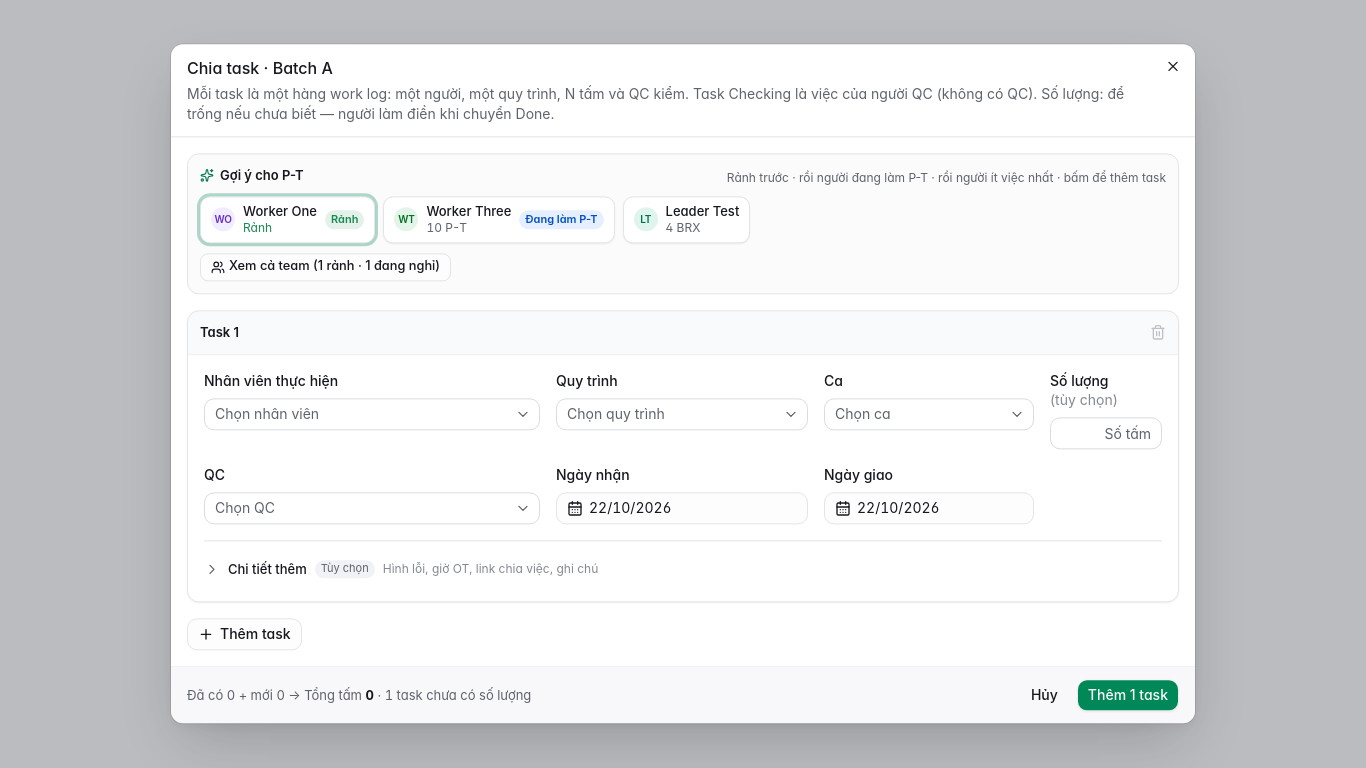
Test: SplitTasksDialog — team load (PD-080) › a tile fills the first task without a person, then adds a task for the next one (copying task 1) and focuses its Quy trình
Click the button "WO Worker One Rảnh Rảnh" at (288, 220), box left=200, top=197, right=375, bottom=243
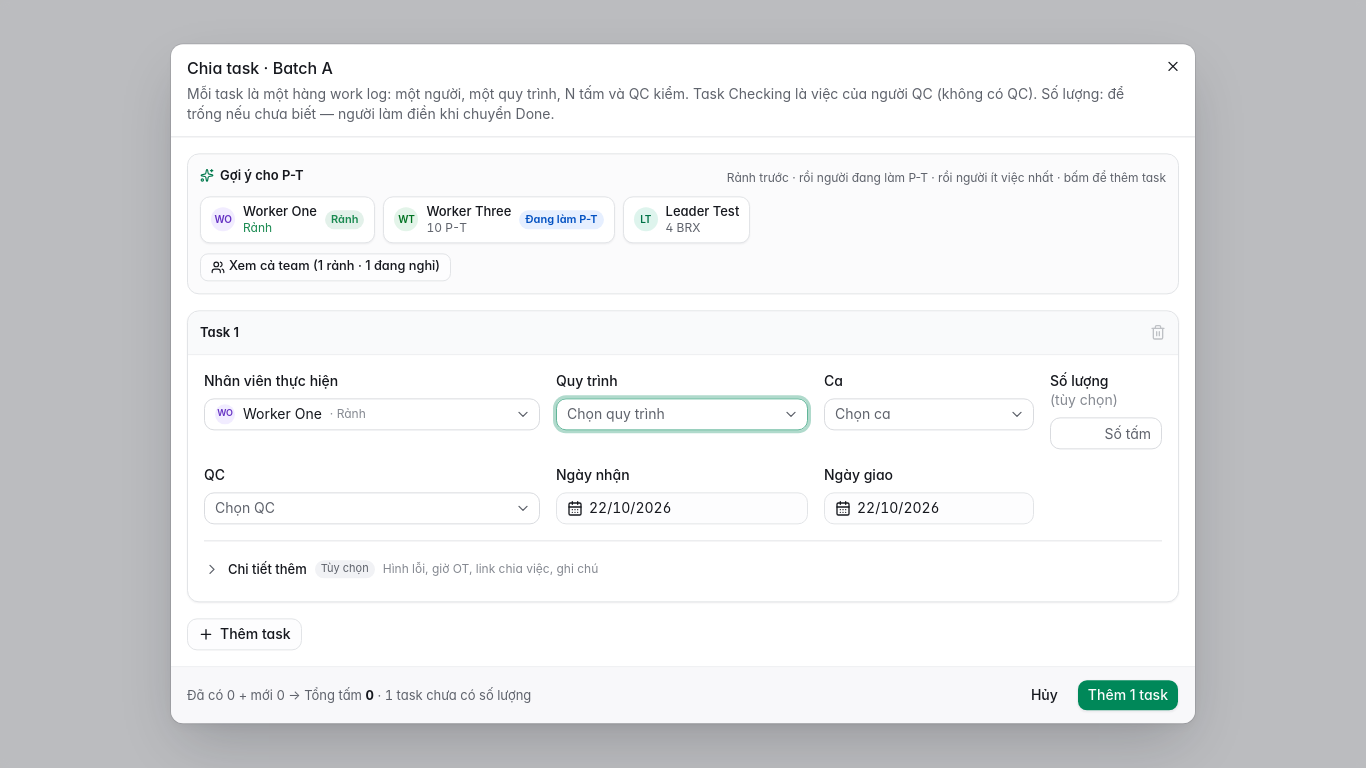
Expected: the dropdown named "Nhân viên thực hiện" shows "Worker One", left=204, top=398, right=540, bottom=430
Type "12" into the field with placeholder "Số tấm" at (1106, 433), box left=1050, top=417, right=1162, bottom=449
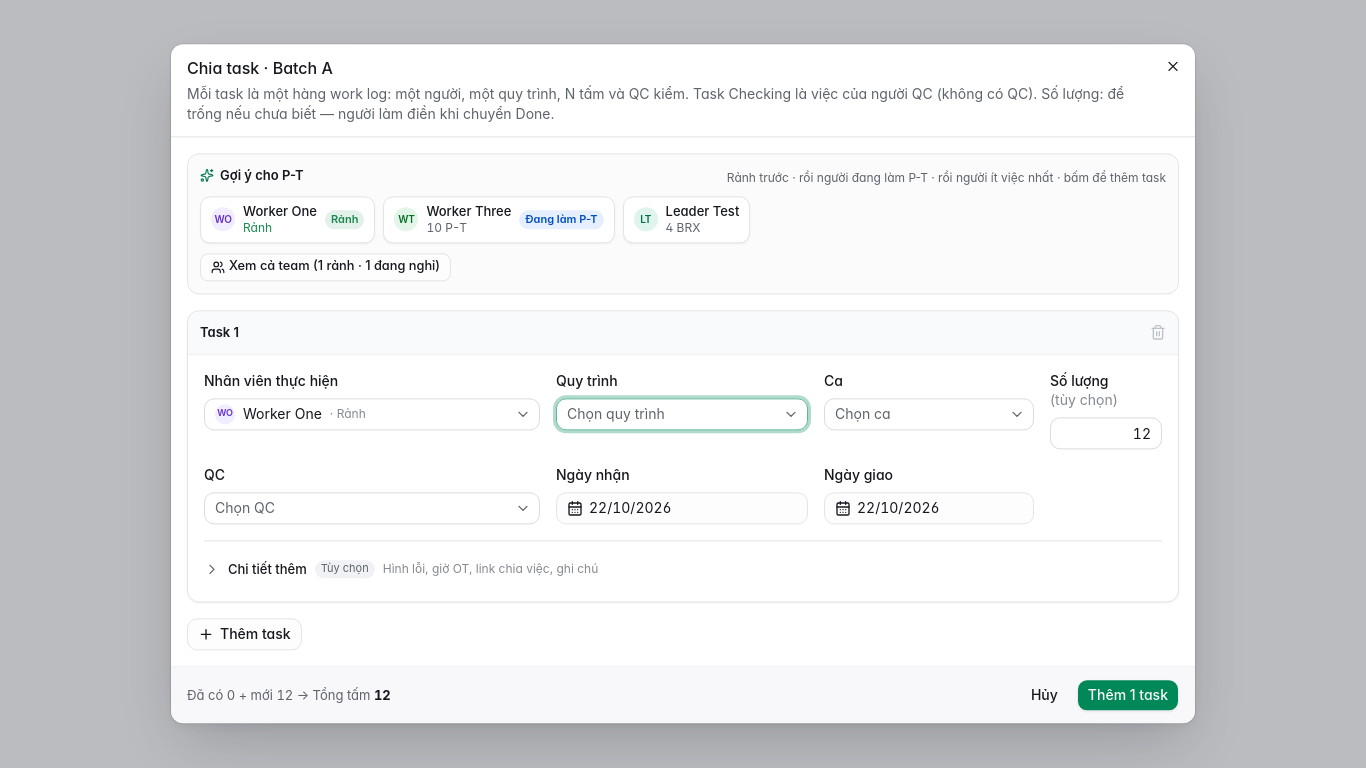
Click the button "WT Worker Three 10 P-T Đang làm P-T" at (499, 220), box left=383, top=197, right=615, bottom=243
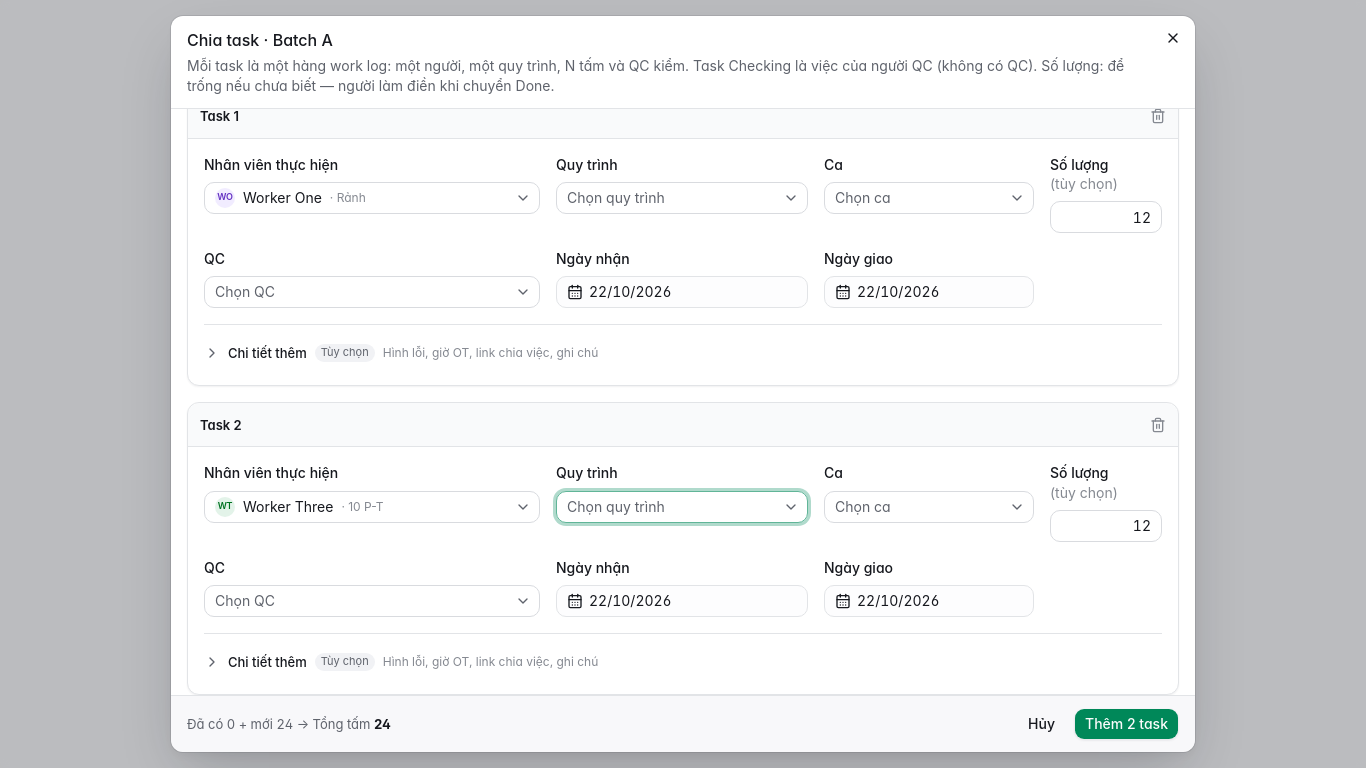
Expected: the number of list items is 2, left=187, top=109, right=1179, bottom=386; left=187, top=402, right=1179, bottom=695
Expected: the dropdown named "Nhân viên thực hiện" shows "Worker Three", left=204, top=490, right=540, bottom=522
Expected: the 2nd field with placeholder "Số tấm" holds "12", left=1050, top=510, right=1162, bottom=542
